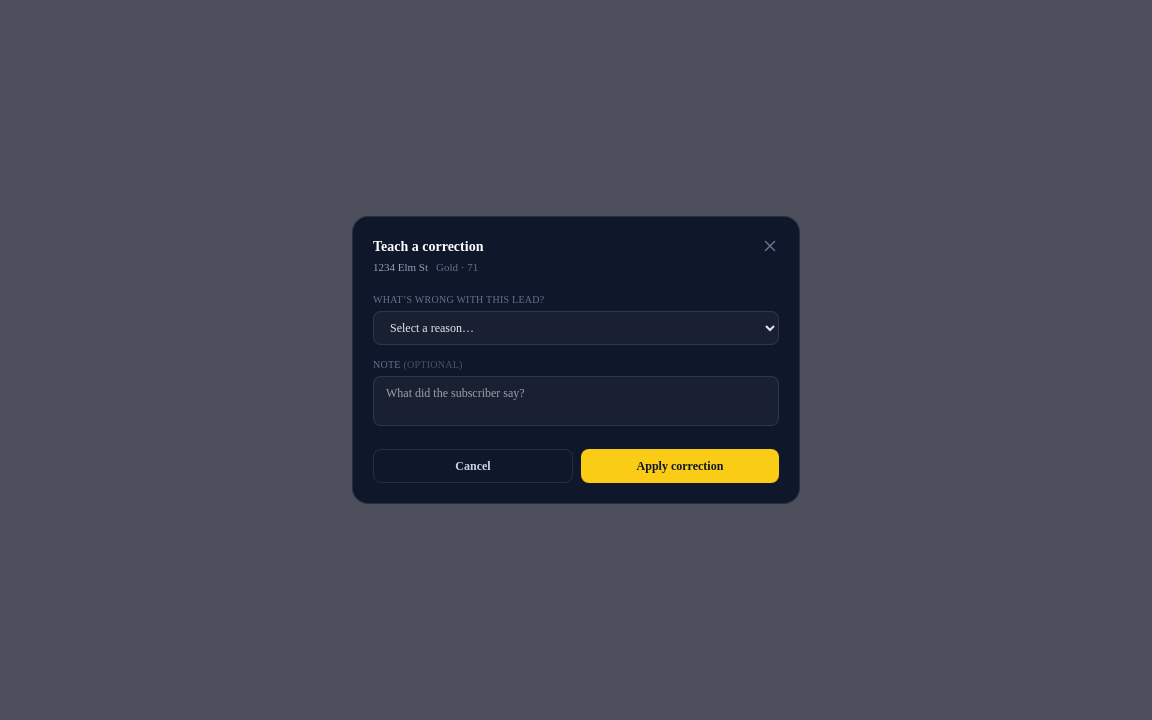
Scenario: TeachLeadModal › blocks submit with no reason selected
Click the button "Apply correction" at (680, 466), box [581,449,779,483]
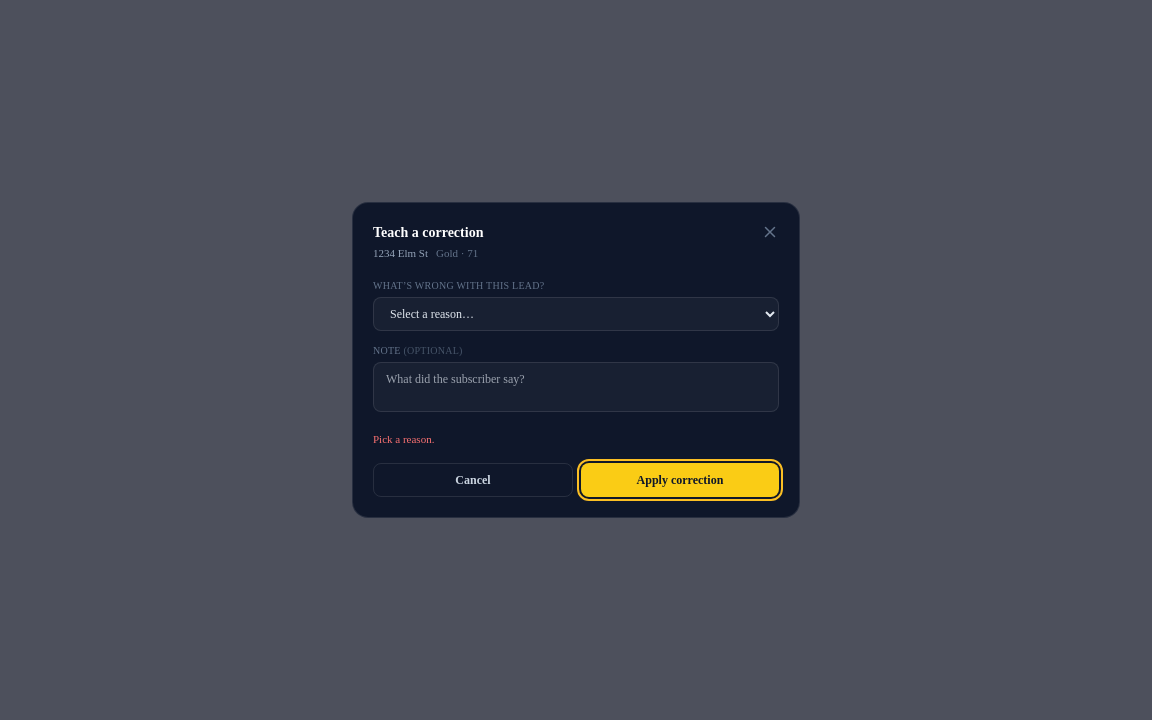
Check: the message shows "Pick a reason", box [373,432,434,444]
